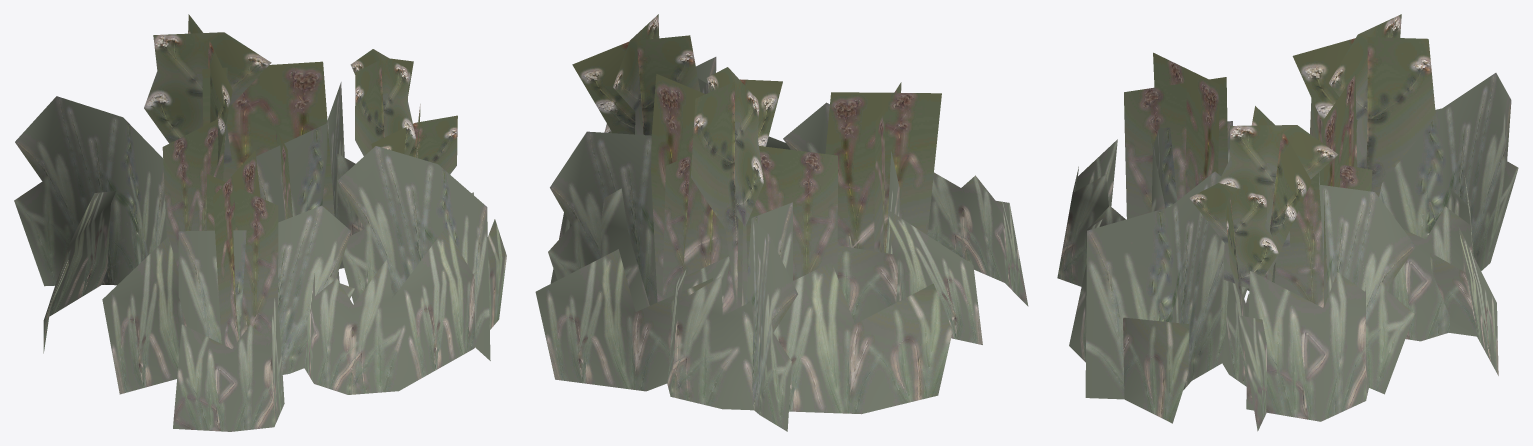
File: proc_grassplantmix_02.FBX
3 renders of one model, left to right at view 1: azimuth 30°, elevation 25°; view 2: azimuth 150°, elevation 25°; view 3: azimuth 270°, elevation 25°, orthographic. The views are drawn at different scales.
Visible parts, largest first — view 1: proc_grassplantmix_02; view 2: proc_grassplantmix_02; view 3: proc_grassplantmix_02.
Part boxes in pixels (box(x1,y1,x2,y2)): proc_grassplantmix_02: box(14, 14, 506, 431); proc_grassplantmix_02: box(535, 14, 1028, 431); proc_grassplantmix_02: box(1057, 14, 1518, 431).
Size of the model in its own units: 1.61 by 1.51 by 1.08.
1 material, 1 textured.
